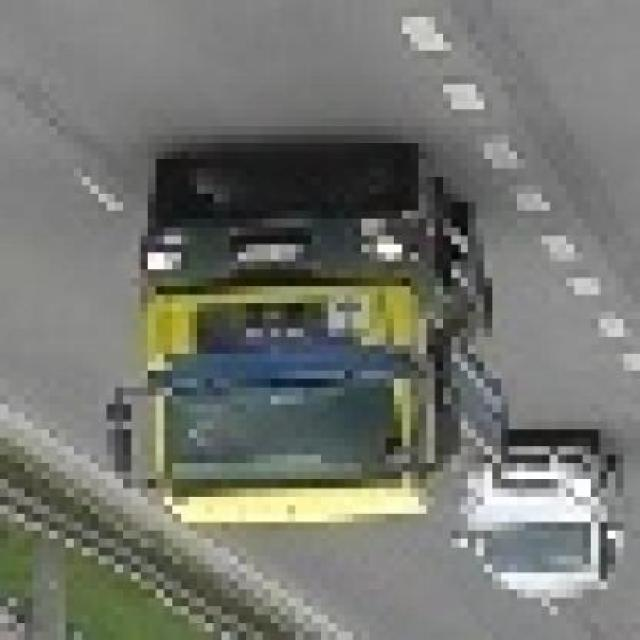truck: (100, 161, 511, 556)
